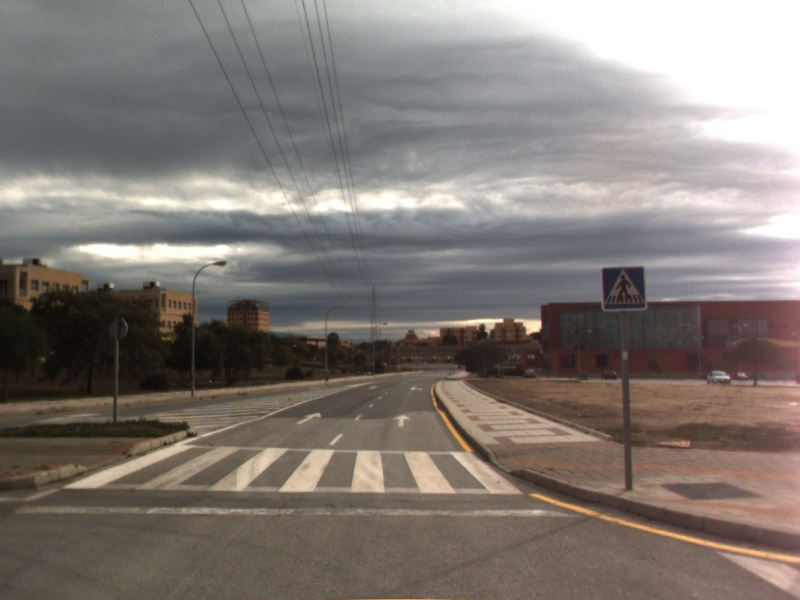STRAIGHT: (294, 410, 323, 426), (390, 413, 413, 429)
